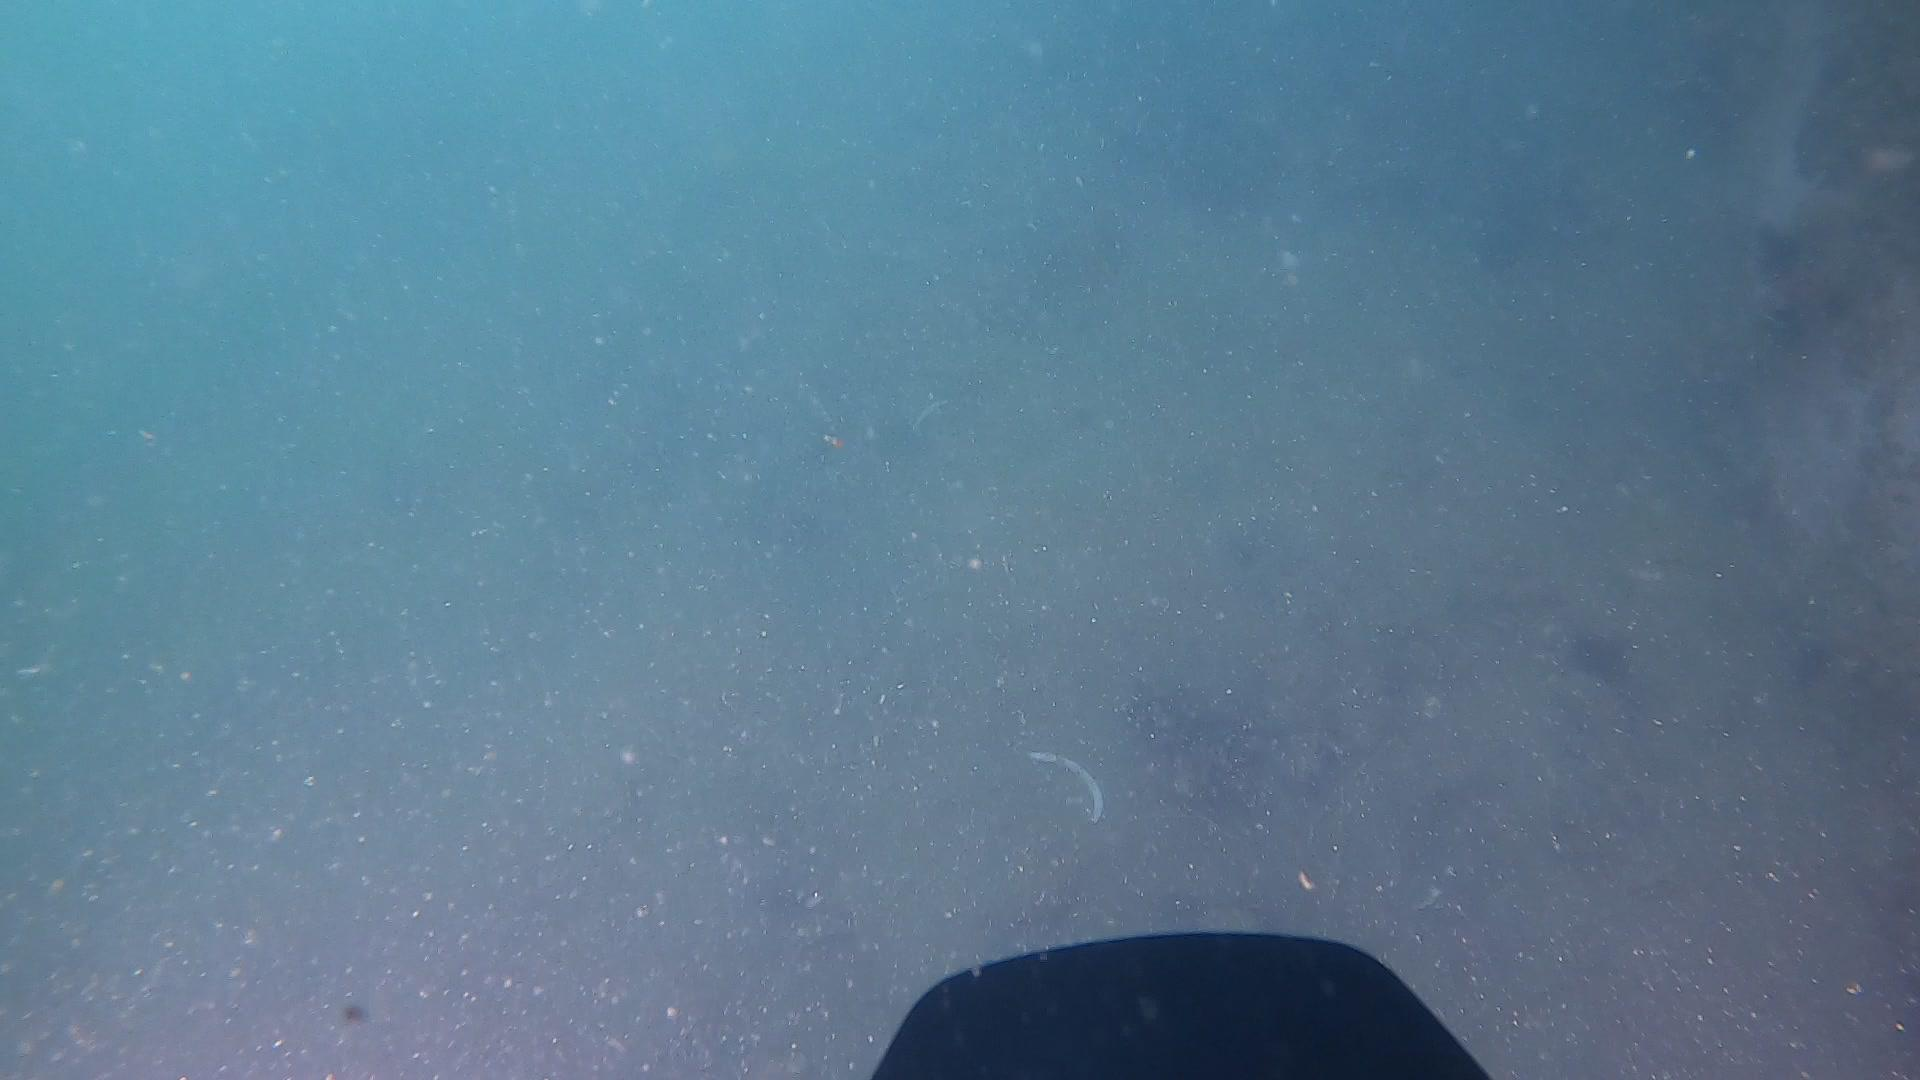fish net: (0, 0, 550, 720)
other objects: (882, 906, 1490, 1075)
